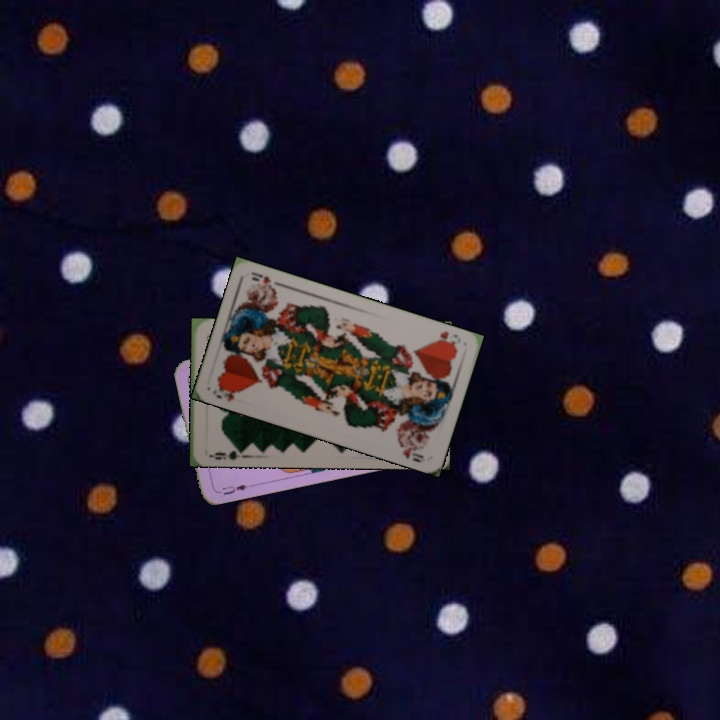EU: (213, 480, 250, 498)
G9: (205, 443, 245, 462)
HO: (208, 381, 242, 404), (432, 327, 461, 351)
